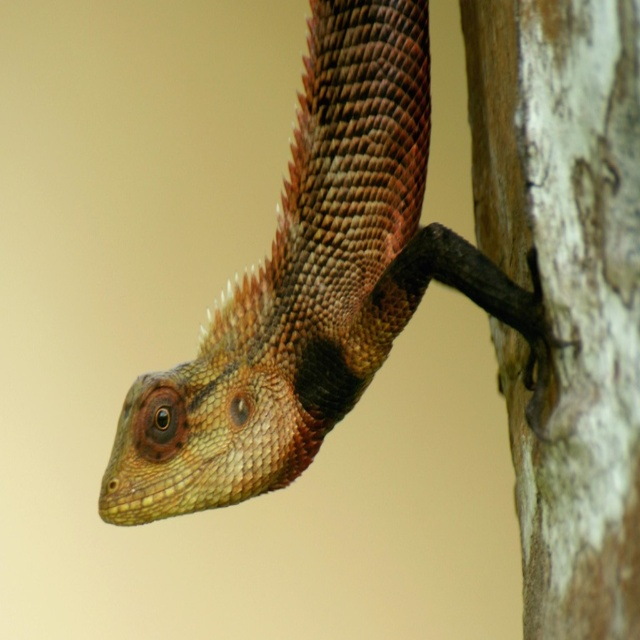Lizard: (95, 0, 555, 558)
